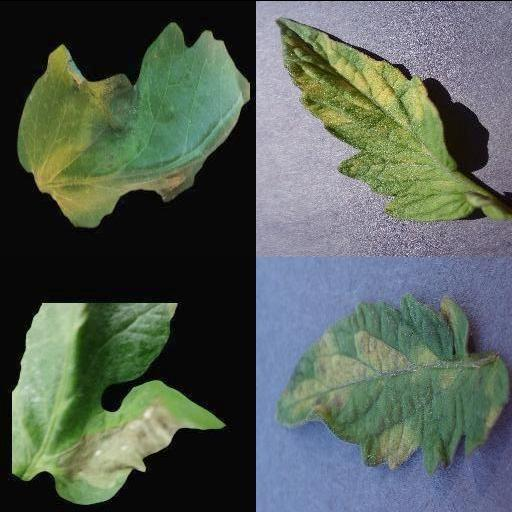Late Blight: (17, 21, 251, 227), (13, 303, 229, 503)
Leaf Mold: (276, 294, 512, 470), (276, 16, 474, 222)
